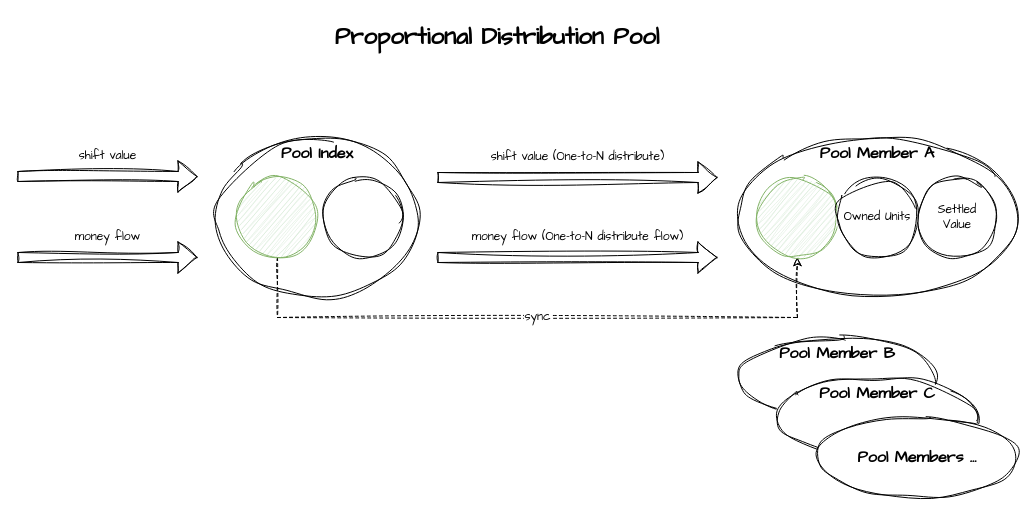
Image size: 1036x515. Some labels were removed from this diagram. Here are the shapes that lost their labels. From the top down, the box of each, then its label:
(236, 176, 318, 258): Wrapped Particle
(322, 176, 402, 258): Total Units
(756, 176, 838, 258): Synced Particle
